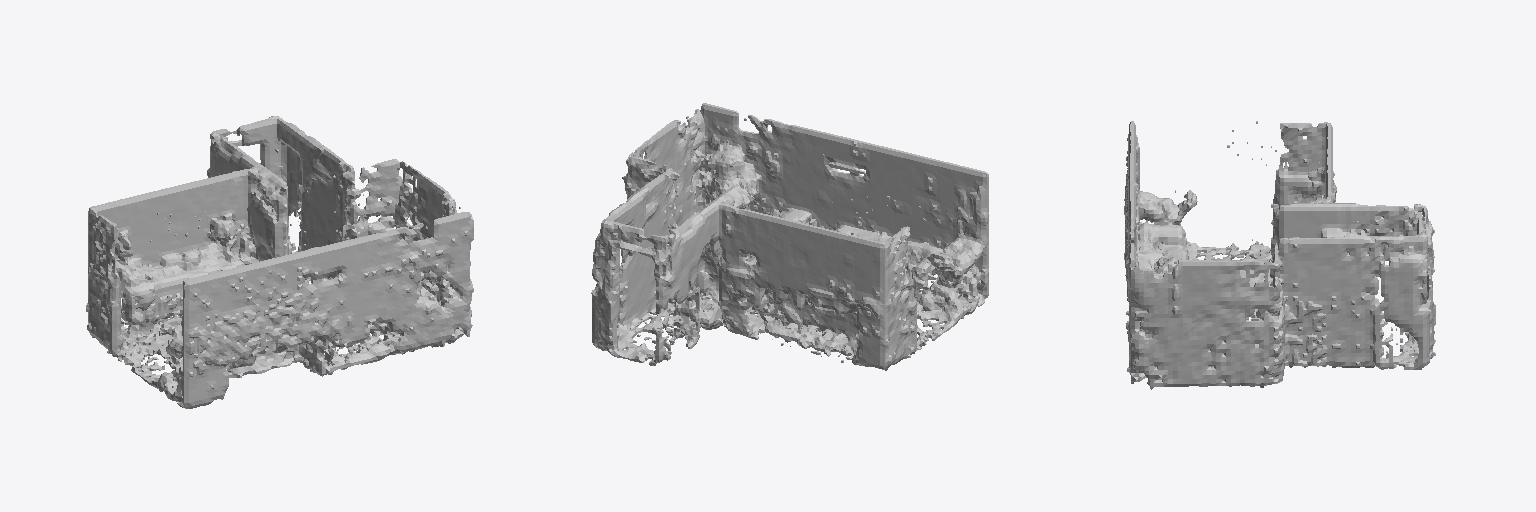
The model's file is point_cloud_test.obj.
3 views of the same model, side by side, from view 1: azimuth 30°, elevation 25°; view 2: azimuth 150°, elevation 25°; view 3: azimuth 270°, elevation 25° (orthographic).
Parts seen in each view (by area): view 1: 14_Ladybrook_Road_10; view 2: 14_Ladybrook_Road_10; view 3: 14_Ladybrook_Road_10.
Boxes of the visible parts, box(x1,y1,x2,y2) form: 14_Ladybrook_Road_10: box(86, 116, 473, 408); 14_Ladybrook_Road_10: box(591, 103, 988, 370); 14_Ladybrook_Road_10: box(1124, 121, 1435, 389).
Size of the model in its own units: 5.82 by 2.5 by 5.32.